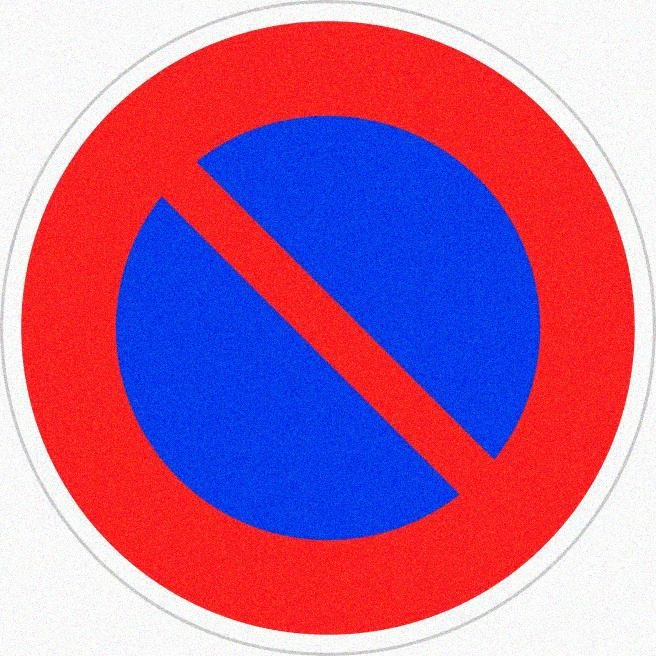Prohibition_sign: (10, 5, 648, 656)
